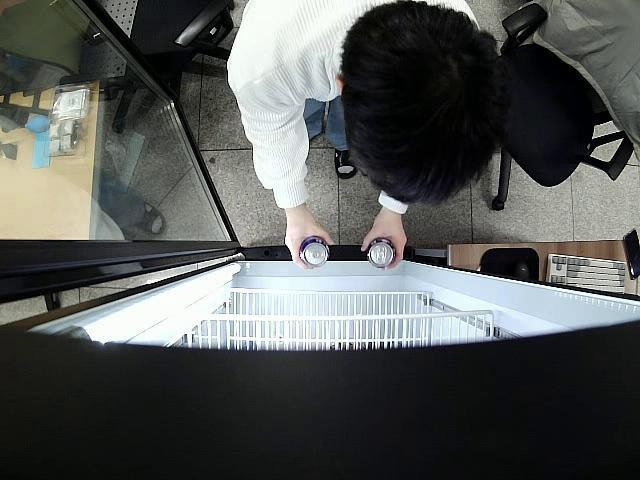14_welchsGrape: (299, 236, 330, 268), (368, 238, 396, 269)
